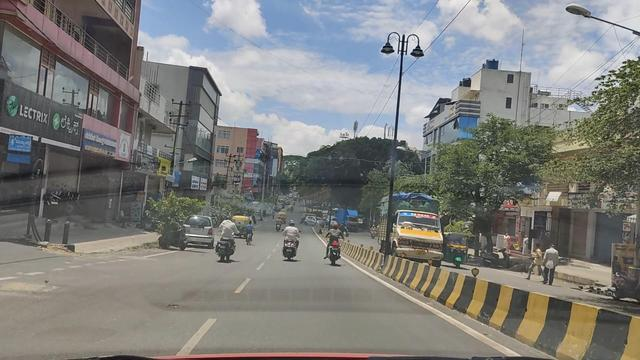LMV: (215, 219, 241, 274)
RoadDamages: (24, 257, 65, 309)
